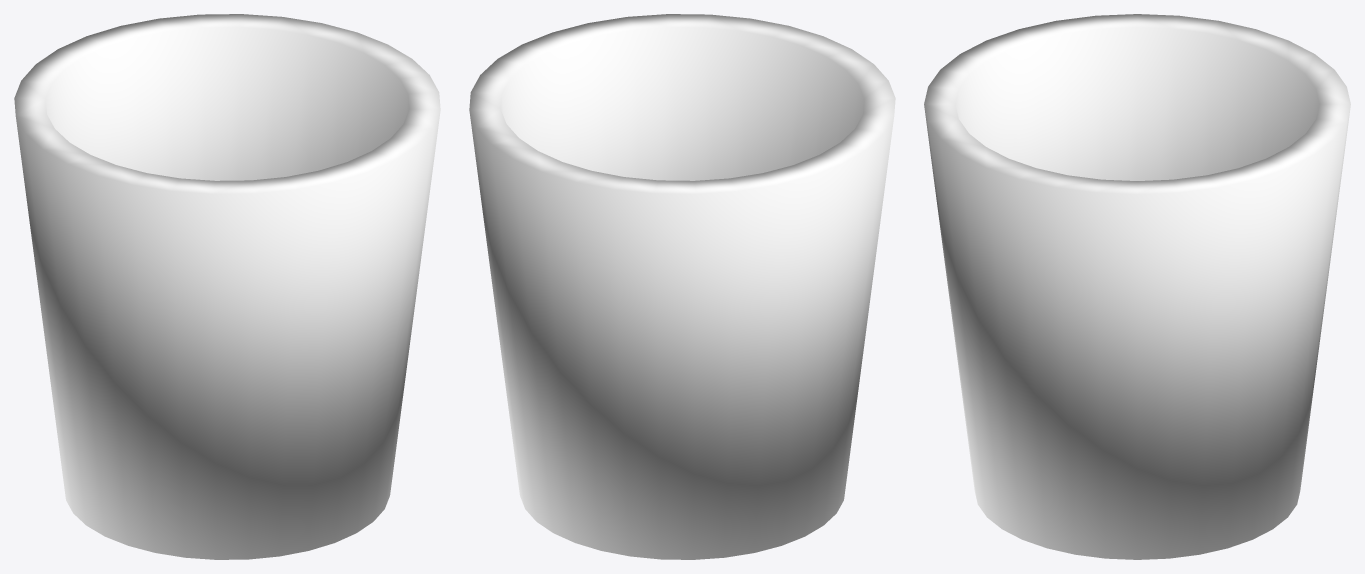
Rendered from bubbleteacup.dae.
3 views of the same model, side by side, from view 1: azimuth 30°, elevation 25°; view 2: azimuth 150°, elevation 25°; view 3: azimuth 270°, elevation 25° (orthographic).
Visible parts, largest first — view 1: Cylinder.001; view 2: Cylinder.001; view 3: Cylinder.001.
Boxes of the visible parts, x1,y1,x2,y2 form: Cylinder.001: (14,14,440,559); Cylinder.001: (469,14,895,559); Cylinder.001: (924,14,1350,559).
Size of the model in its own units: 2.34 by 2.34 by 2.34.
Materials: 1 (1 with a texture image).
